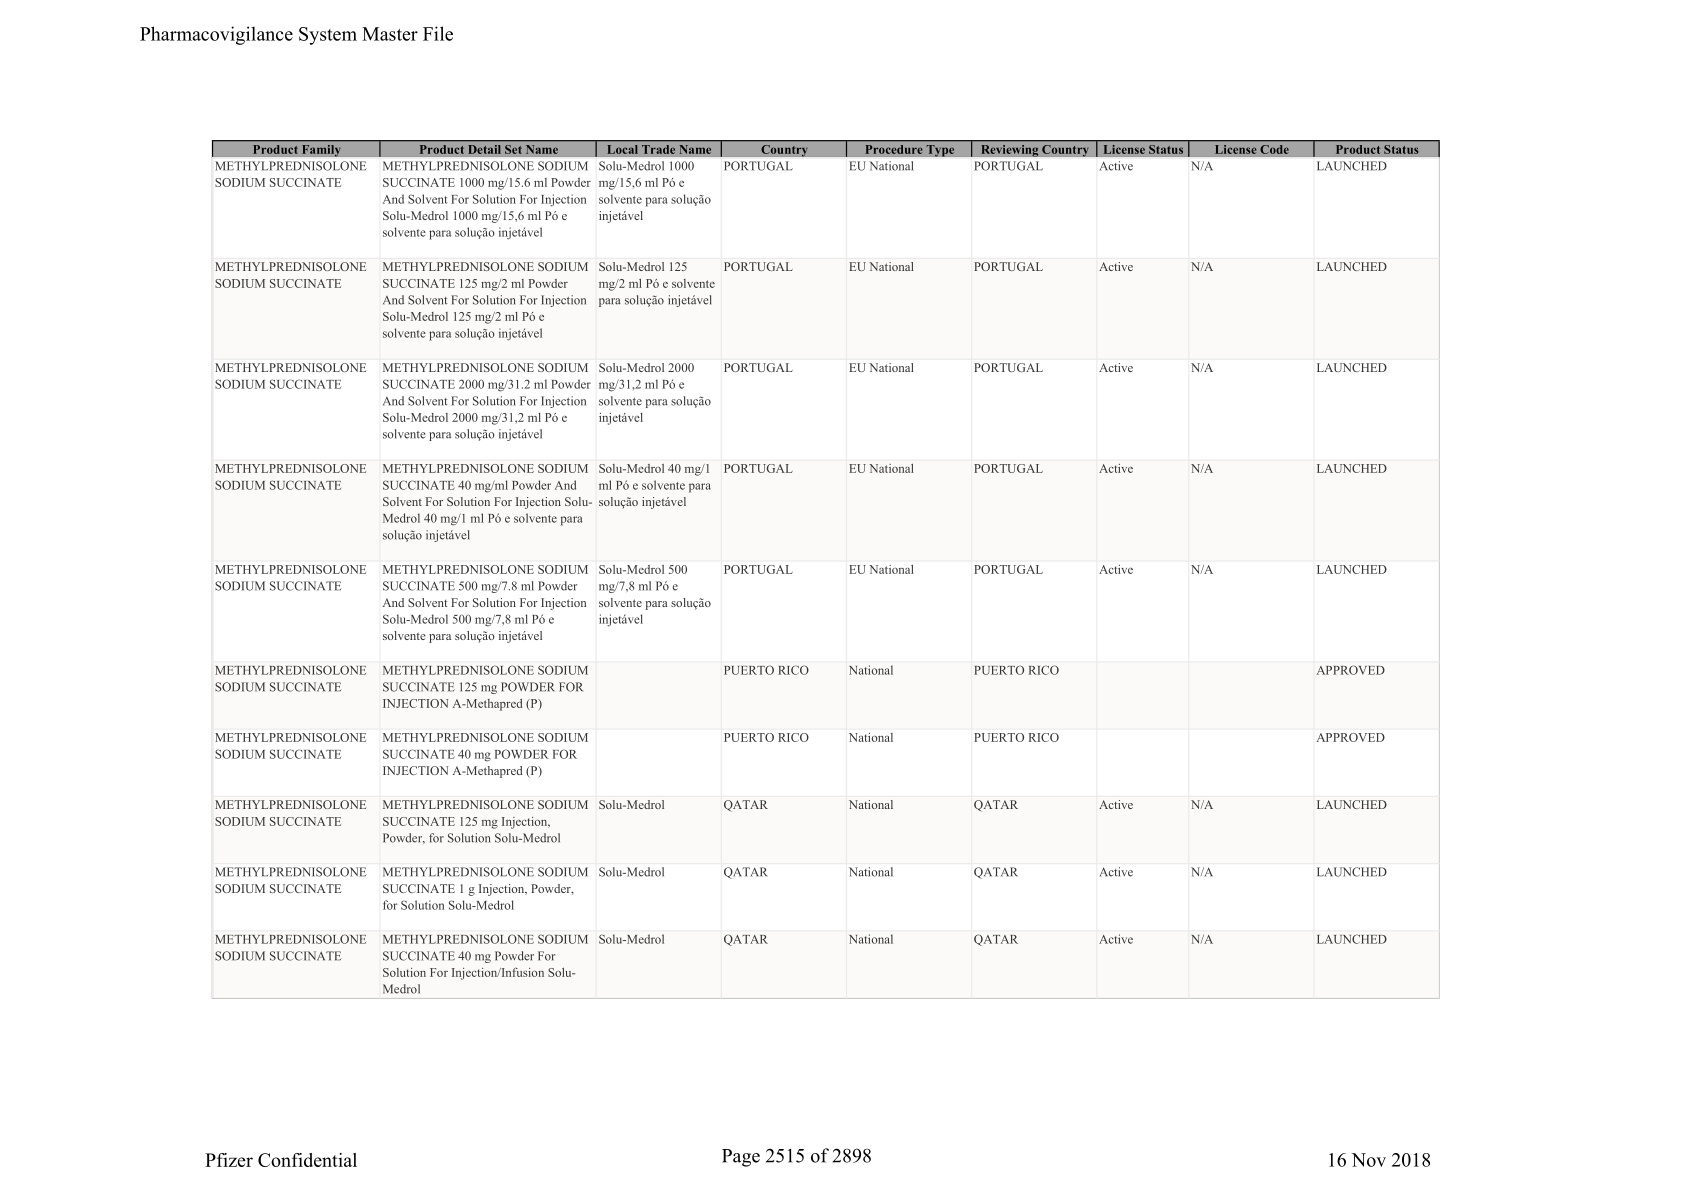full_lined: (197, 130, 1450, 1020)
